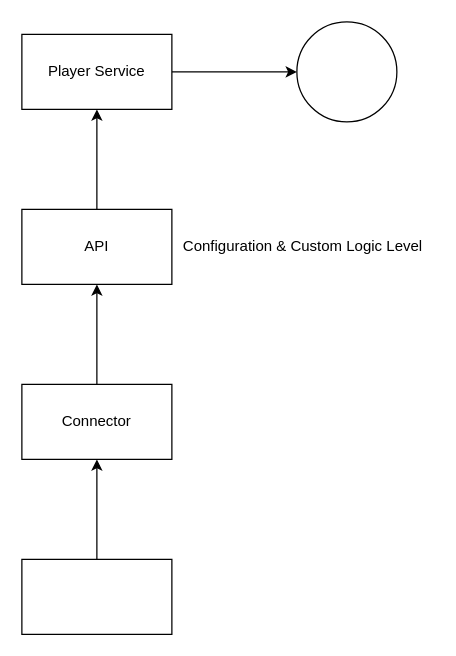
This 456x656 diagram has some shape labels left out. Each missing label, with the centre of its shape:
"Player 1 Movement" belongs at (x=96, y=596).
"Result" belongs at (x=346, y=71).
